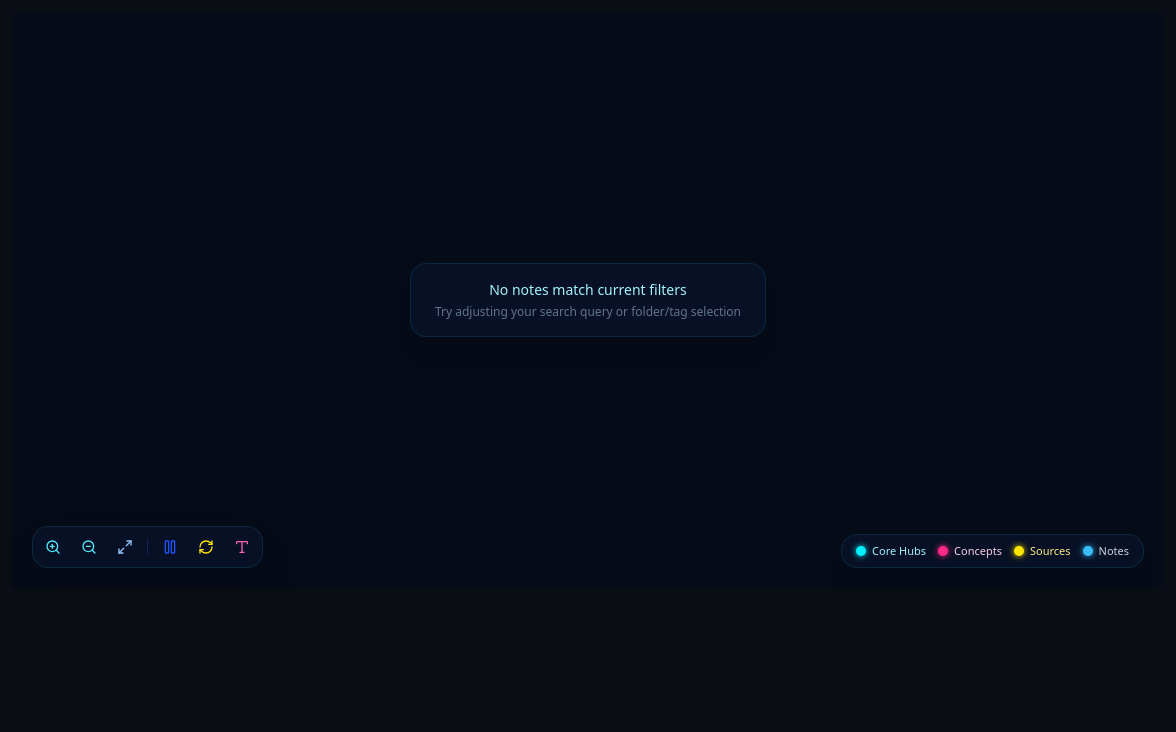
Test: Multi-Layout Canvas Unification & Contextual Controls › renders simulation controls (Play/Pause, Reheat) in Force-Directed Organic layout
Expected: the button titled "Zoom In" is shown, [37,531,69,563]
Expected: the button titled "Zoom Out" is shown, [73,531,105,563]
// Toggling simulation switches tooltip between Pause and Resume
Click the button titled "Pause" at coordinates (170, 547), box [154,531,186,563]
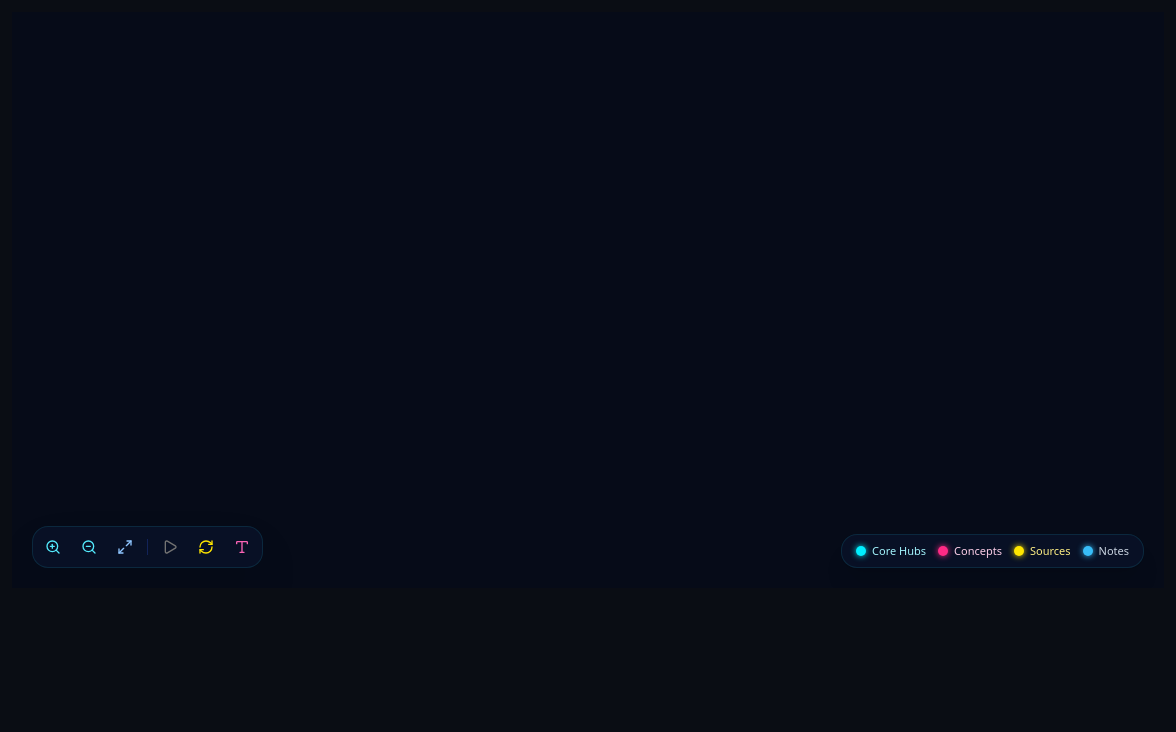
Expected: the button titled "Resume" is shown
Click the button titled "Resume" at coordinates (170, 547), box [154,531,186,563]
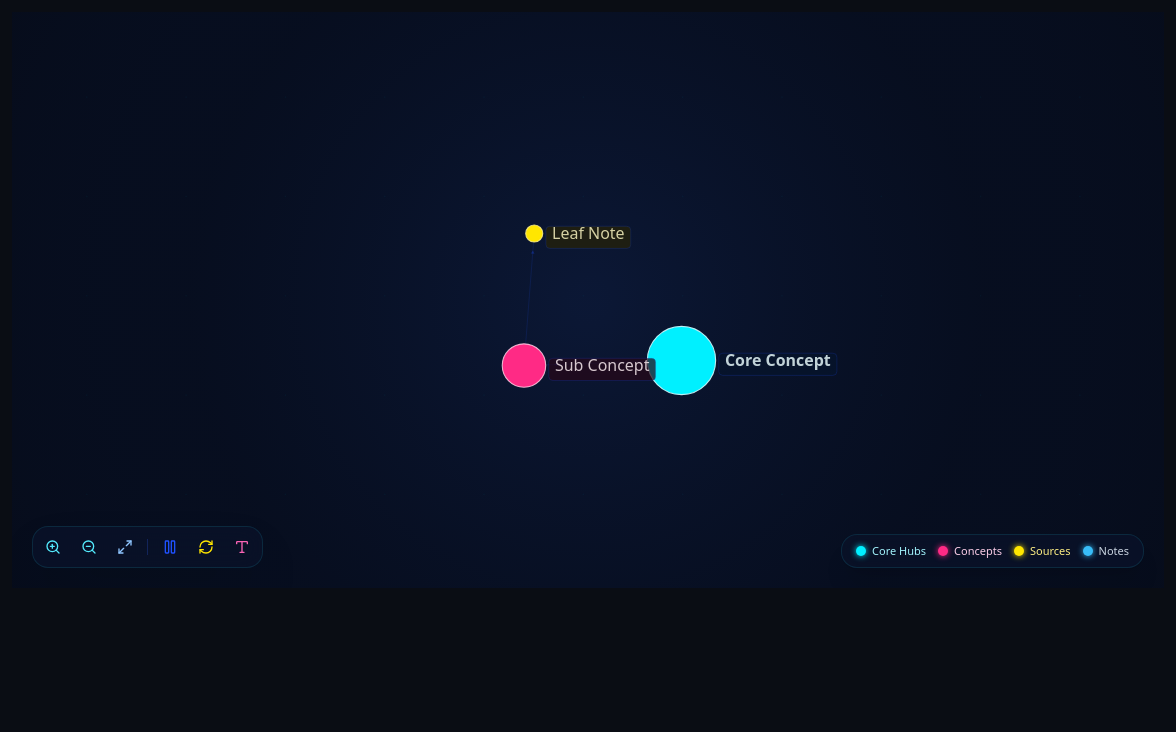
Expected: the button titled "Pause" is shown, [154,531,186,563]
